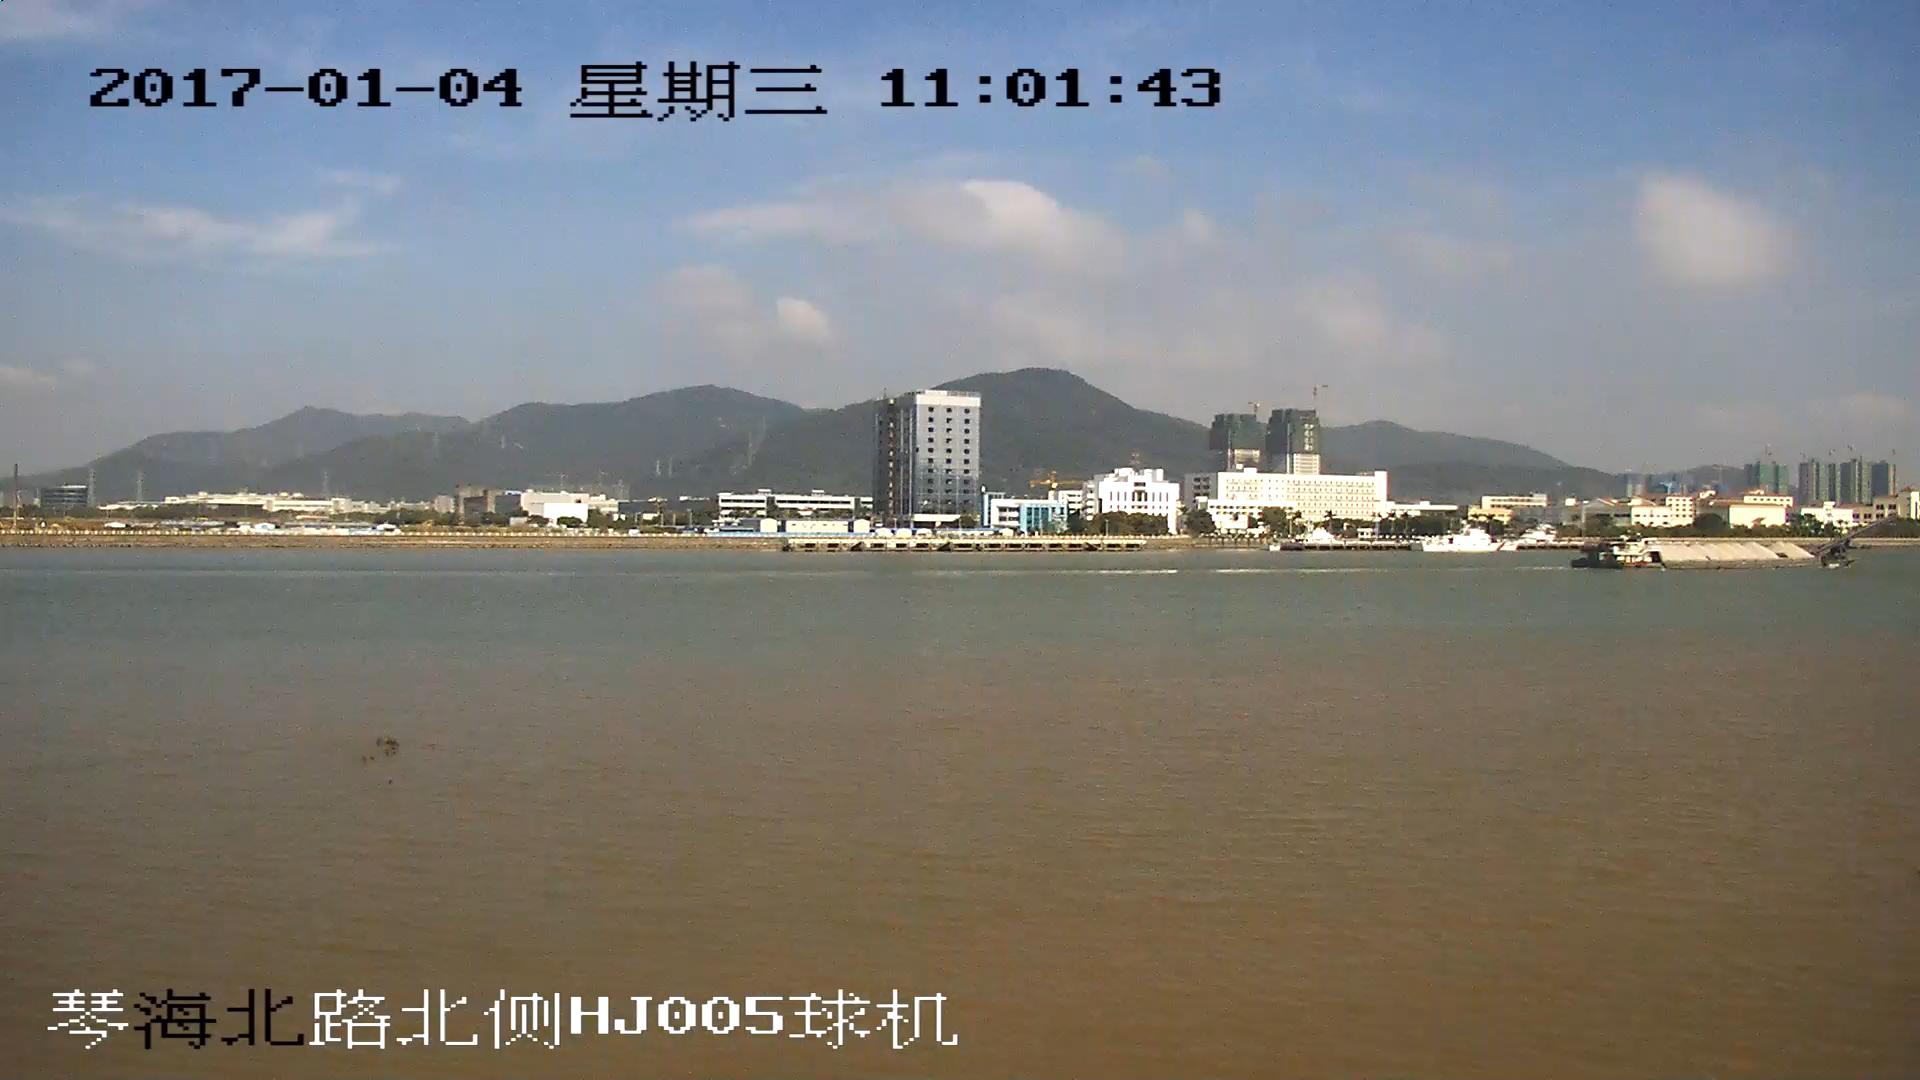ore carrier: (1577, 514, 1883, 571)
